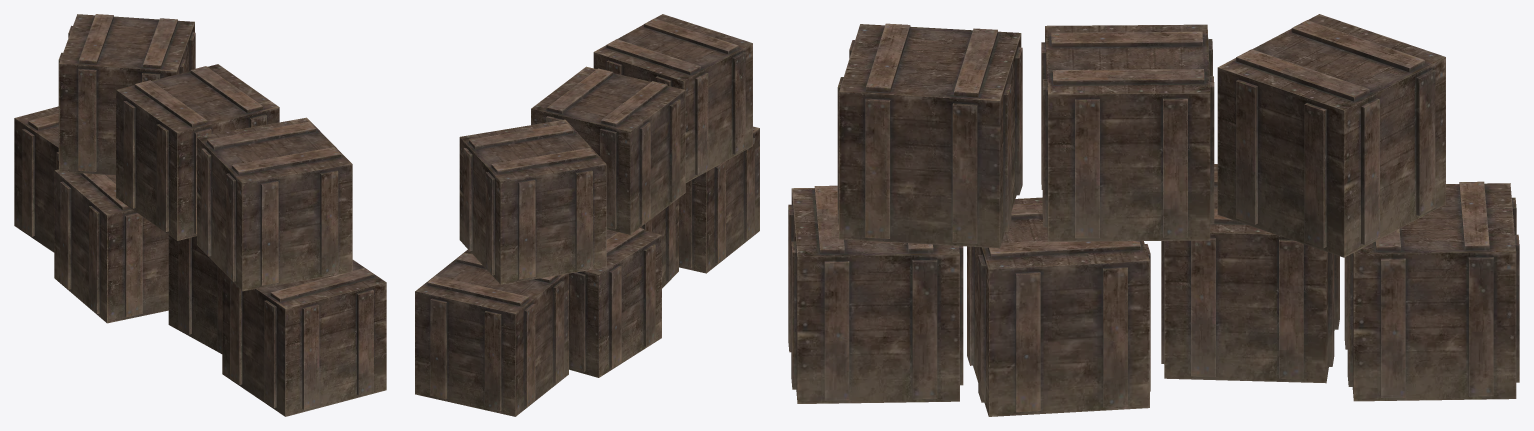
Rendered from SHO_General_Store_CrateSet_2-transformed.glb.
The picture shows the model from 3 angles, left to right: view 1: azimuth 30°, elevation 25°; view 2: azimuth 150°, elevation 25°; view 3: azimuth 270°, elevation 25°; orthographic projection. The views are drawn at different scales.
Parts seen in each view (by area): view 1: default; view 2: default; view 3: default.
Boxes of the visible parts, bbox=[...] form: default: bbox=[14, 14, 386, 416]; default: bbox=[415, 14, 759, 416]; default: bbox=[788, 14, 1519, 416].
Size of the model in its own units: 0.9764 by 1.28 by 2.79.
1 material, 1 textured.
